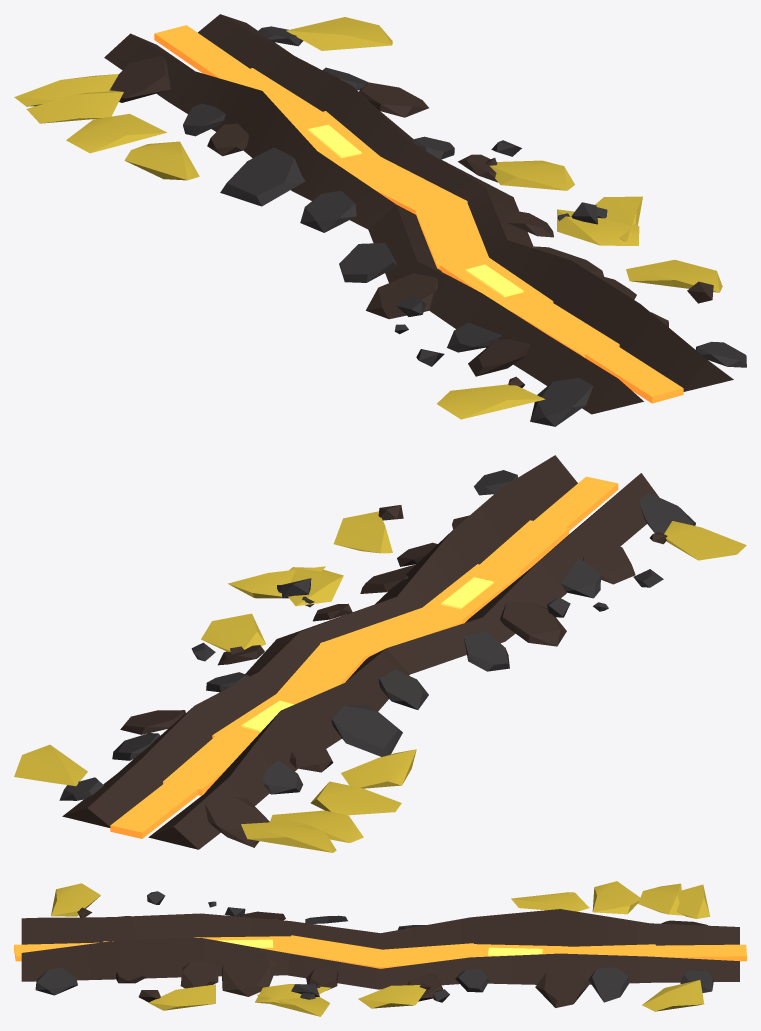
The model's file is fissure.glb.
3 views of the same model, one above another, from view 1: azimuth 30°, elevation 25°; view 2: azimuth 150°, elevation 25°; view 3: azimuth 270°, elevation 25° (orthographic). The views are drawn at different scales.
Parts seen in each view (by area): view 1: fissure; view 2: fissure; view 3: fissure.
Boxes of the visible parts, box(x1,y1,x2,y2) form: fissure: box(14, 14, 746, 426); fissure: box(14, 455, 746, 852); fissure: box(14, 881, 746, 1016).
Size of the model in its own units: 7.13 by 1.04 by 16.33.
